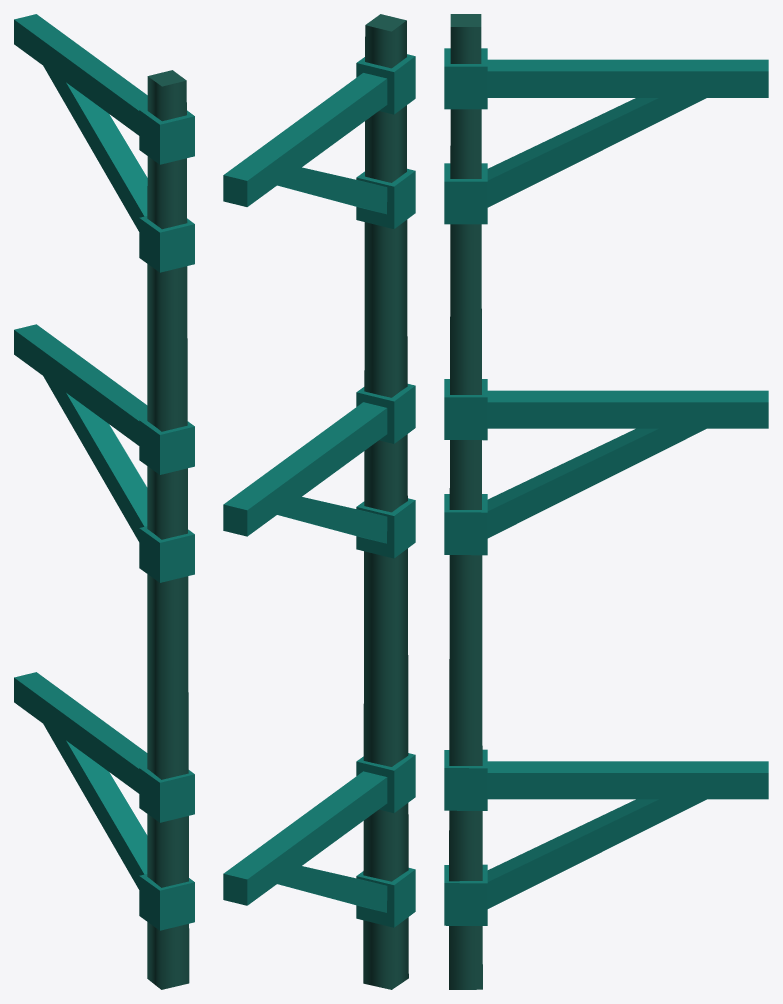
The model's file is SignHolder_5_D.fbx.
3 renders of one model, left to right at view 1: azimuth 30°, elevation 25°; view 2: azimuth 150°, elevation 25°; view 3: azimuth 270°, elevation 25°, orthographic. The views are drawn at different scales.
Parts seen in each view (by area): view 1: SignHolder_5_D; view 2: SignHolder_5_D; view 3: SignHolder_5_D.
Boxes of the visible parts, <box> form: SignHolder_5_D: <box>14,14,194,989</box>; SignHolder_5_D: <box>223,14,415,989</box>; SignHolder_5_D: <box>444,14,768,989</box>.
Bounding box in the file's own units: 8.95 × 217 × 66.26.
